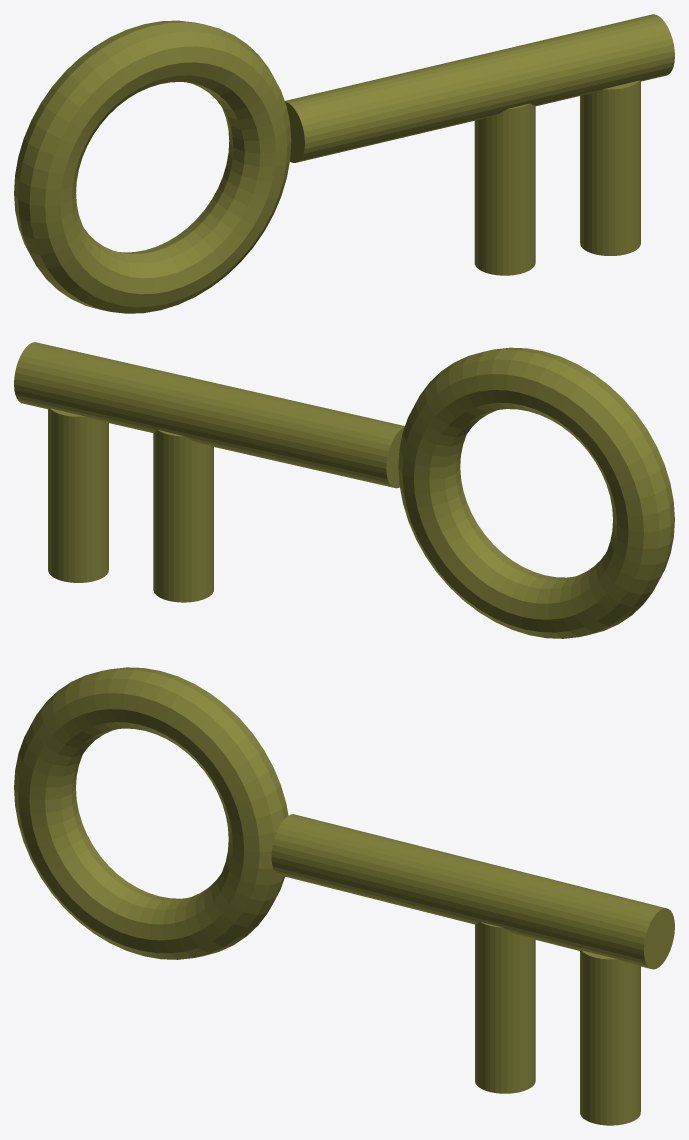
File: Items.fbx_Key.fbx
3 views of the same model, one above another, from view 1: azimuth 30°, elevation 25°; view 2: azimuth 150°, elevation 25°; view 3: azimuth 330°, elevation 25° (orthographic).
Visible parts, largest first — view 1: Key; view 2: Key; view 3: Key.
Part boxes in pixels (x1,y1,x2,y2): Key: (14, 14, 674, 313); Key: (14, 342, 674, 638); Key: (14, 667, 674, 1125).
Size of the model in its own units: 855 by 419 by 76.42.
